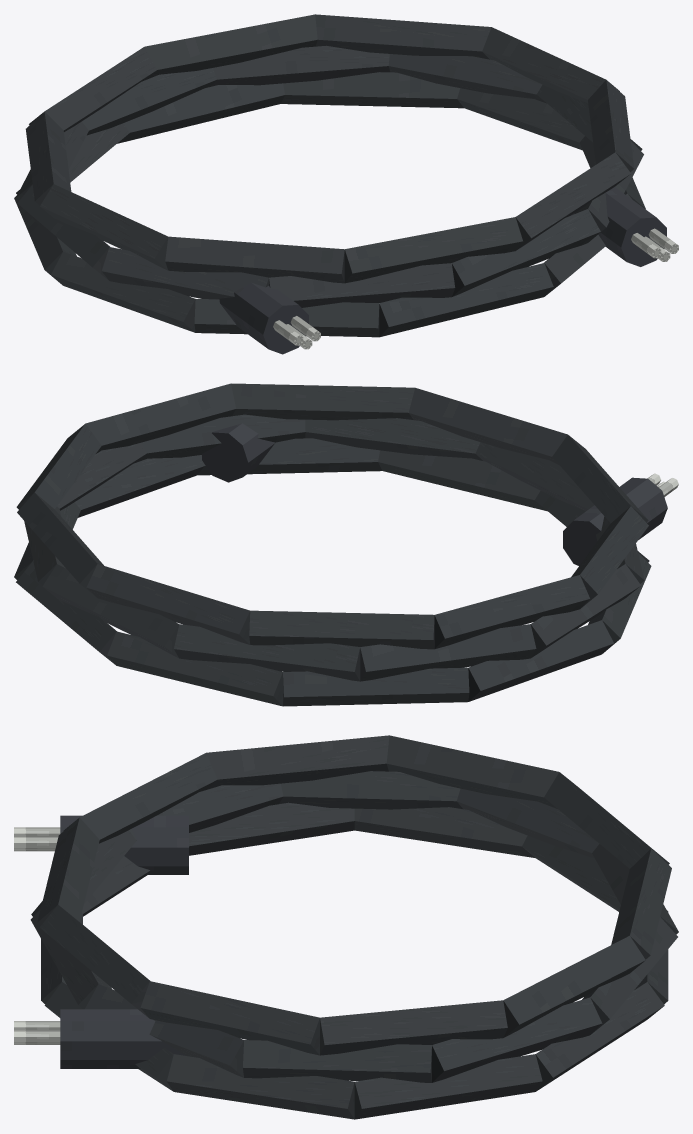
Rendered from cable_xlr.glb.
3 views of the same model, one above another, from view 1: azimuth 30°, elevation 25°; view 2: azimuth 150°, elevation 25°; view 3: azimuth 270°, elevation 25° (orthographic). The views are drawn at different scales.
Parts seen in each view (by area): view 1: block_connector shell (×2), block_coiled length2-0, block_coiled length2-9, block_coiled length2-5, block_coiled length2-4, block_coiled length0-2, block_coiled length0-8, block_coiled length1-1, block_coiled length1-6, block_coiled length0-7, block_coiled length0-4, block_coiled length1-7 (+19 smaller); view 2: block_coiled length2-3, block_coiled length2-8, block_coiled length0-6, block_connector shell (×2), block_coiled length2-4, block_coiled length1-5, block_coiled length0-7, block_coiled length2-2, block_coiled length1-4, block_coiled length2-9, block_coiled length1-0, block_coiled length2-7 (+19 smaller); view 3: block_connector shell (×2), block_coiled length2-6, block_coiled length2-1, block_coiled length2-7, block_coiled length0-9, block_coiled length0-0, block_coiled length2-2, block_coiled length1-8, block_coiled length1-3, block_coiled length0-5, block_coiled length1-7, block_coiled length0-4 (+20 smaller).
Boxes of the visible parts, x1,y1,x2,y2 form: block_connector shell (×2): [216, 187, 666, 354]; block_coiled length2-0: [165, 236, 344, 283]; block_coiled length2-9: [344, 217, 522, 283]; block_coiled length2-5: [315, 14, 491, 59]; block_coiled length2-4: [145, 14, 317, 79]; block_coiled length0-2: [379, 263, 553, 337]; block_coiled length0-8: [281, 72, 463, 108]; block_coiled length1-1: [269, 263, 455, 307]; block_coiled length1-6: [211, 45, 389, 86]; block_coiled length0-7: [117, 83, 284, 143]; block_coiled length0-4: [51, 251, 195, 332]; block_coiled length1-7: [388, 54, 546, 103]; block_coiled length2-3: [249, 610, 434, 649]; block_coiled length2-8: [231, 383, 414, 420]; block_coiled length0-6: [283, 667, 469, 706]; block_connector shell (×2): [202, 423, 667, 565]; block_coiled length2-4: [86, 564, 250, 644]; block_coiled length1-5: [174, 624, 360, 681]; block_coiled length0-7: [107, 631, 282, 706]; block_coiled length2-2: [434, 575, 589, 648]; block_coiled length1-4: [360, 624, 536, 681]; block_coiled length2-9: [408, 388, 567, 465]; block_coiled length1-0: [305, 418, 482, 460]; block_coiled length2-7: [86, 383, 235, 453]; block_connector shell (×2): [60, 815, 188, 1068]; block_coiled length2-6: [320, 1000, 507, 1055]; block_coiled length2-1: [206, 735, 389, 789]; block_coiled length2-7: [140, 981, 319, 1055]; block_coiled length0-9: [354, 1054, 542, 1119]; block_coiled length0-0: [166, 1054, 354, 1119]; block_coiled length2-2: [386, 735, 558, 808]; block_coiled length1-8: [243, 1040, 431, 1082]; block_coiled length1-3: [279, 771, 462, 809]; block_coiled length0-5: [354, 807, 534, 857]; block_coiled length1-7: [432, 997, 602, 1082]; block_coiled length0-4: [189, 802, 354, 855].
Size of the model in its own units: 0.2475 by 0.0372 by 0.2276.
Materials: 1 (1 with a texture image).
